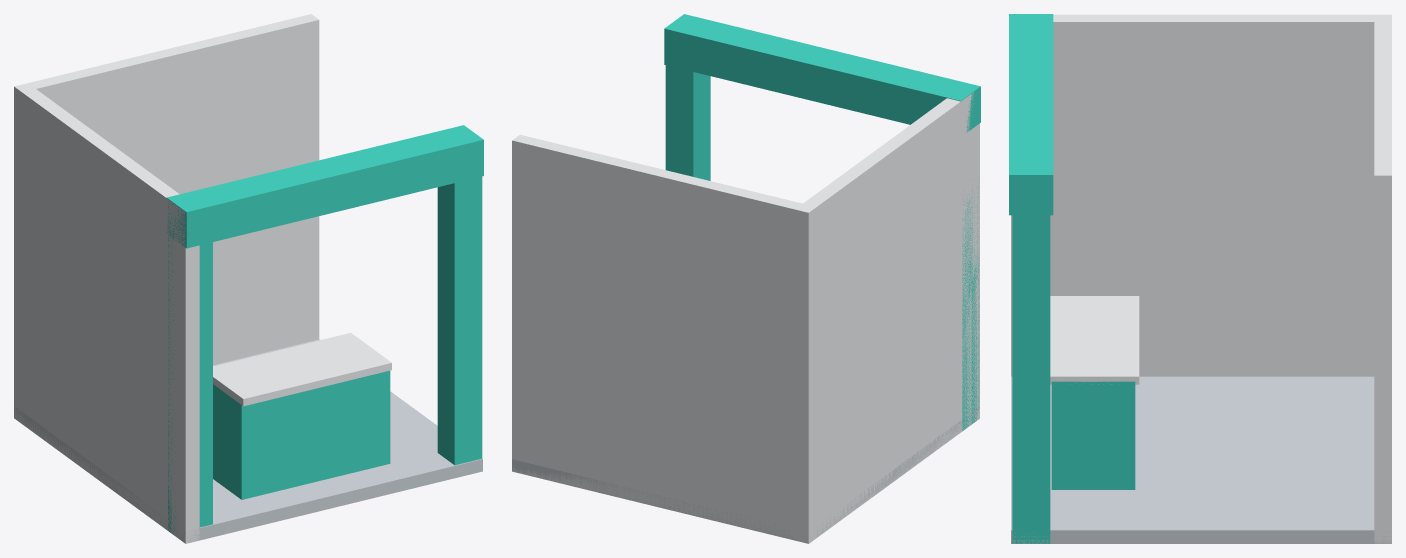
3 renders of one model, left to right at view 1: azimuth 30°, elevation 25°; view 2: azimuth 150°, elevation 25°; view 3: azimuth 270°, elevation 25°, orthographic. The views are drawn at different scales.
Visible parts, largest first — view 1: Exhibition Booth Concept; view 2: Exhibition Booth Concept; view 3: Exhibition Booth Concept.
Part boxes in pixels (x1=…): Exhibition Booth Concept: x1=14, y1=14, x2=483, y2=543; Exhibition Booth Concept: x1=512, y1=14, x2=980, y2=543; Exhibition Booth Concept: x1=1009, y1=14, x2=1391, y2=543.
Bounding box in the file's own units: 3 × 3.2 × 3.01.
